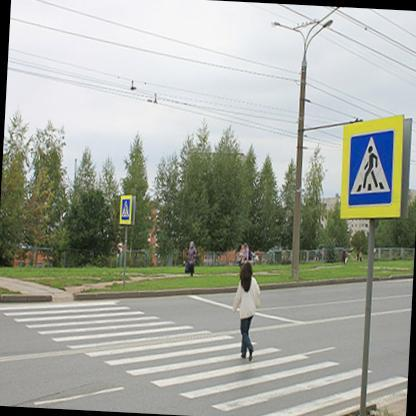road_sign: (340, 115, 411, 219), (118, 195, 135, 225)
